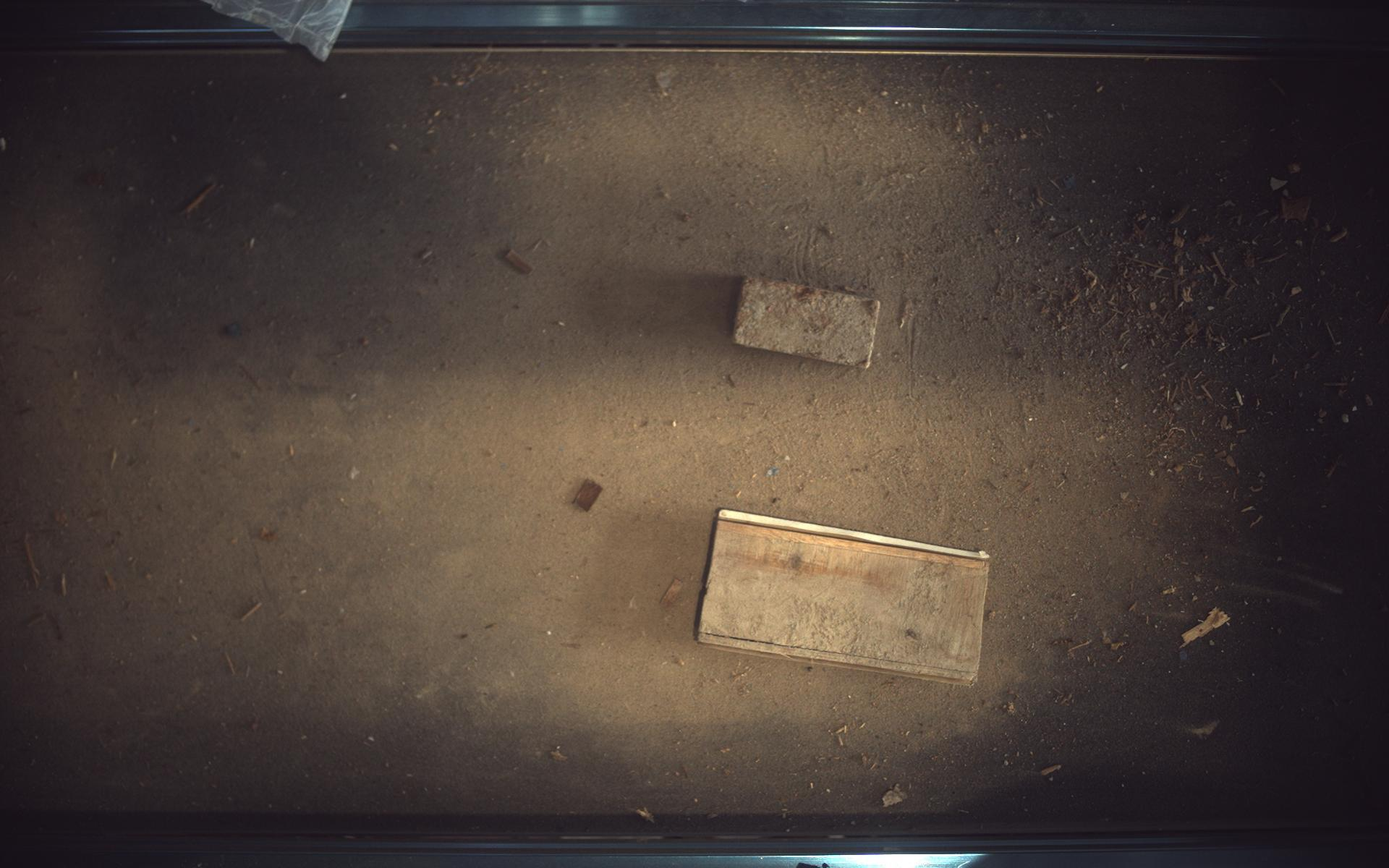wood: (699, 509, 991, 686), (734, 277, 882, 368)
